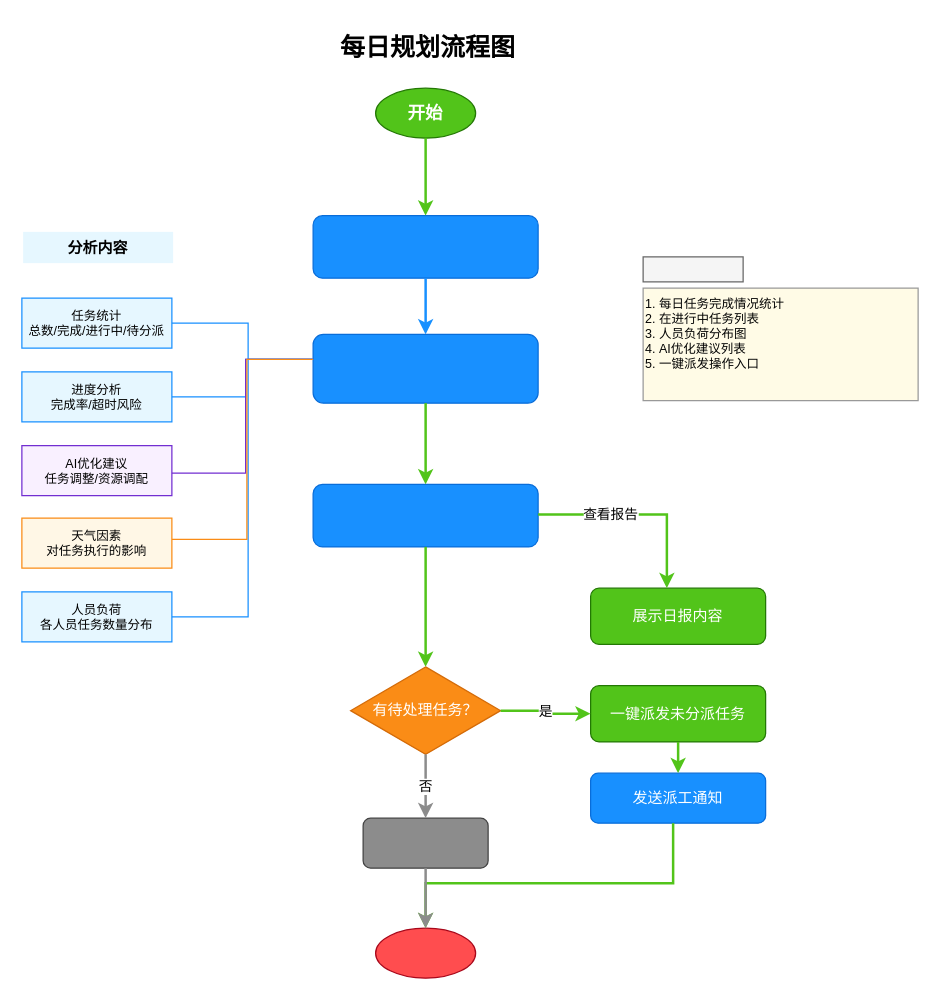
Some shapes in this 940 by 1000 pixel diagram are drawn without their labels. The shapes that lost their labels are listed below. From the top down, each one's box as (x1, y1, x2, y2) in pixels, then its label:
(312, 214, 538, 278): 选择日期
(642, 256, 743, 282): 输出内容：
(312, 333, 538, 403): 调用useDailyWorkOrderAnalysis 分析该日工单数据
(312, 483, 538, 547): 生成每日工作报告
(362, 817, 488, 868): 无需处理
(374, 927, 476, 978): 完成
